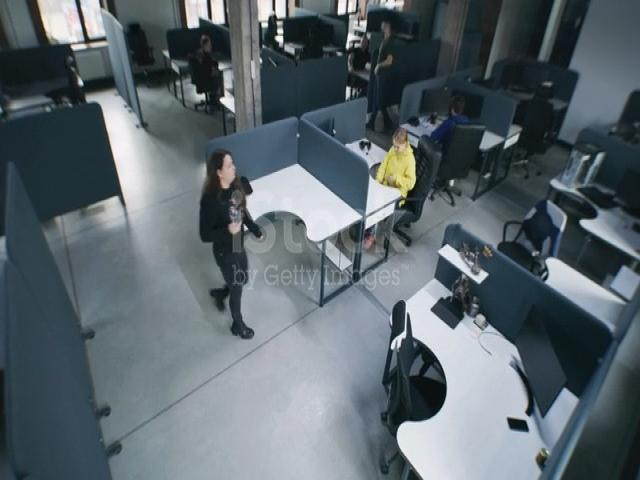empty chair: (380, 291, 436, 453), (491, 168, 561, 294), (522, 54, 569, 174), (46, 44, 99, 128), (115, 4, 159, 87), (618, 97, 640, 175)
occupiedchair: (176, 40, 228, 112), (446, 127, 484, 199), (412, 140, 443, 214), (346, 51, 369, 93)
